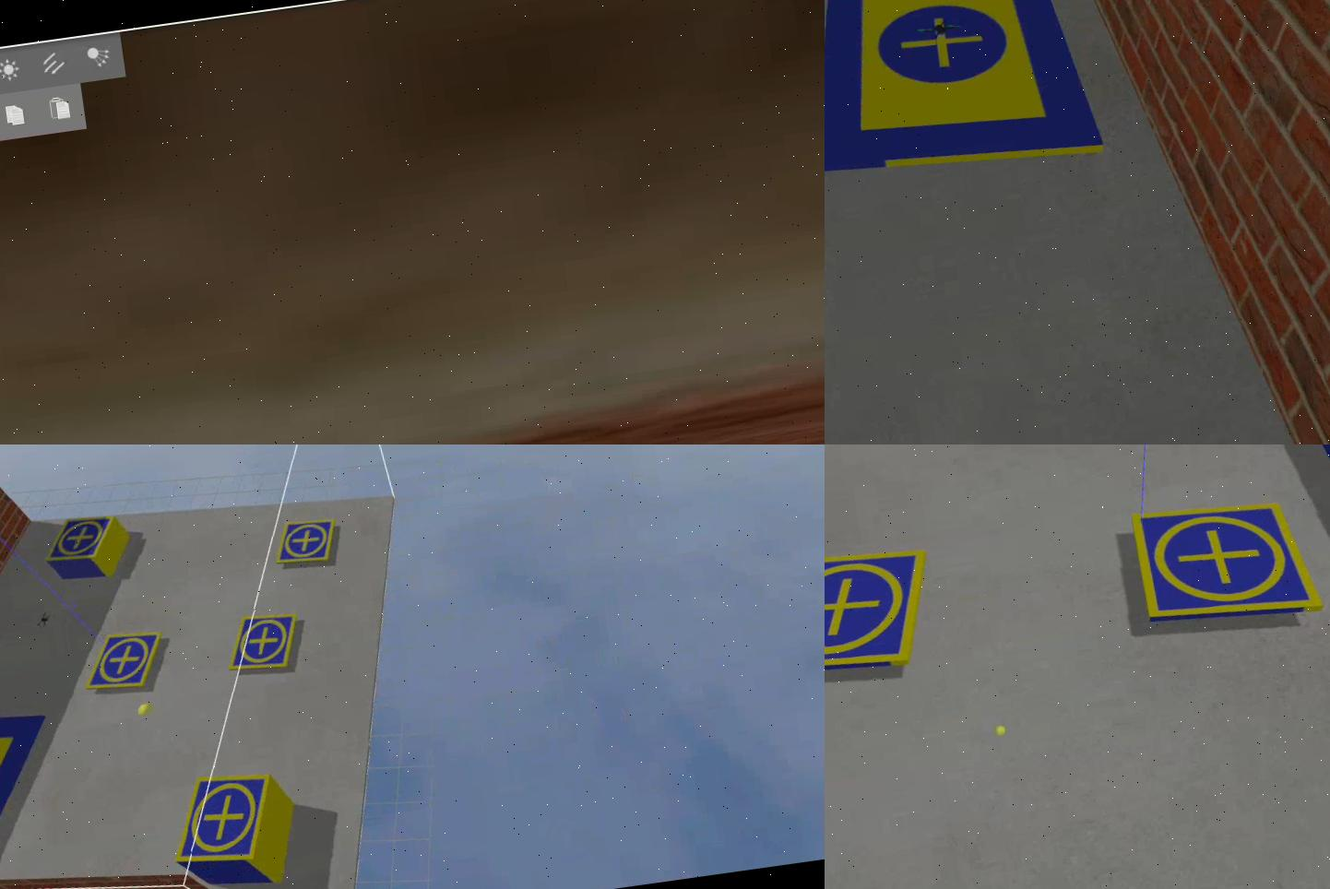large_base: (825, 1, 1109, 192), (1, 705, 66, 889)
small_base: (1126, 489, 1325, 640), (825, 543, 943, 698), (171, 770, 284, 869), (226, 610, 312, 681), (81, 630, 172, 693), (269, 514, 345, 571), (44, 512, 121, 565)
